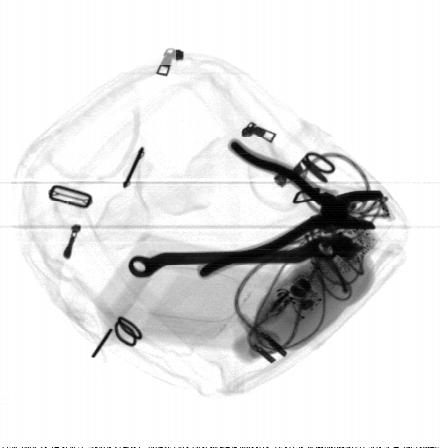Pliers: (196, 137, 384, 279)
Wrench: (127, 236, 337, 277)
